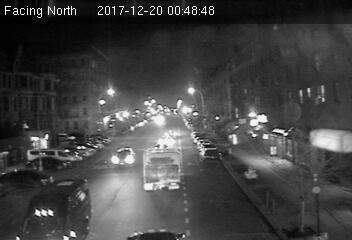car: (111, 148, 139, 169)
truck: (142, 146, 184, 193)
